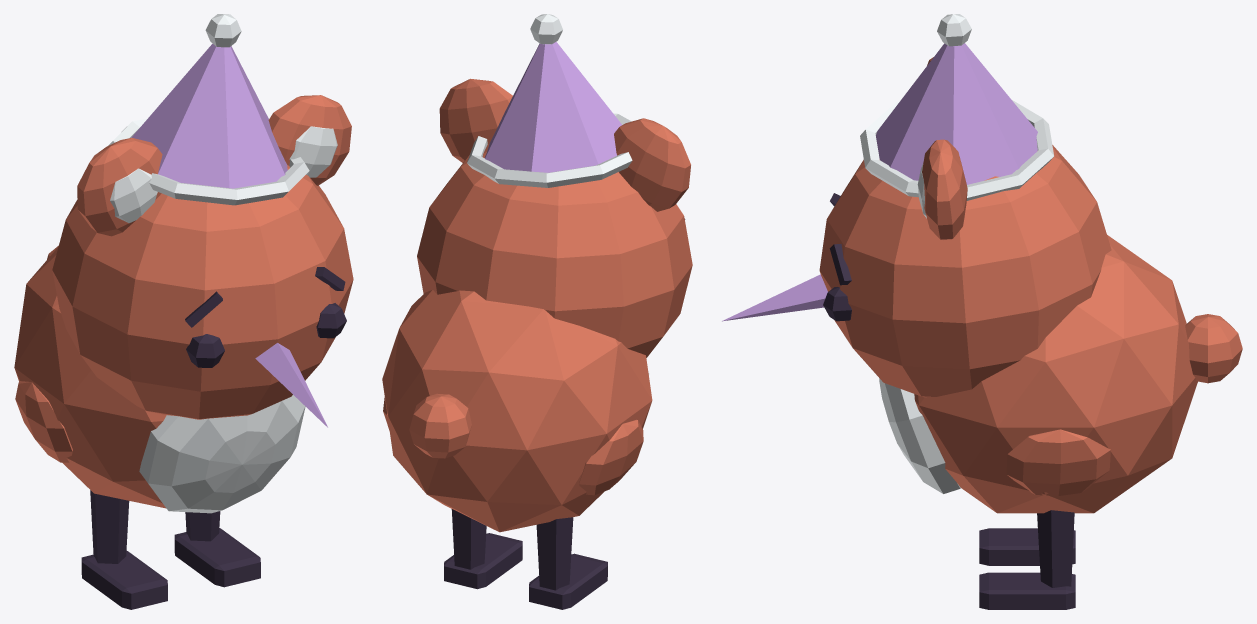
Rendered from bird-medieval-4412.glb.
The picture shows the model from 3 angles, left to right: view 1: azimuth 30°, elevation 25°; view 2: azimuth 150°, elevation 25°; view 3: azimuth 270°, elevation 25°; orthographic projection. The views are drawn at different scales.
Visible parts, largest first — view 1: bird-medieval-4412; view 2: bird-medieval-4412; view 3: bird-medieval-4412.
Boxes of the visible parts, <box> form: bird-medieval-4412: <box>14,14,353,609</box>; bird-medieval-4412: <box>382,14,692,609</box>; bird-medieval-4412: <box>722,14,1242,609</box>.
Bounding box in the file's own units: 0.43 × 0.9 × 0.7441.
